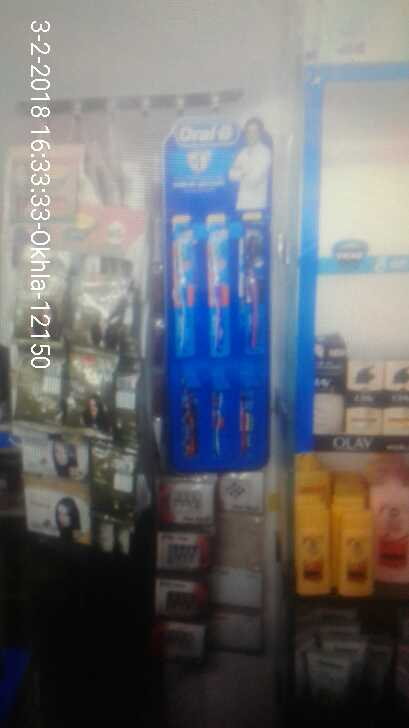beauty: (344, 353, 386, 439), (382, 358, 409, 438)
pharmacy: (240, 220, 270, 349), (203, 225, 230, 365), (171, 224, 194, 358)
